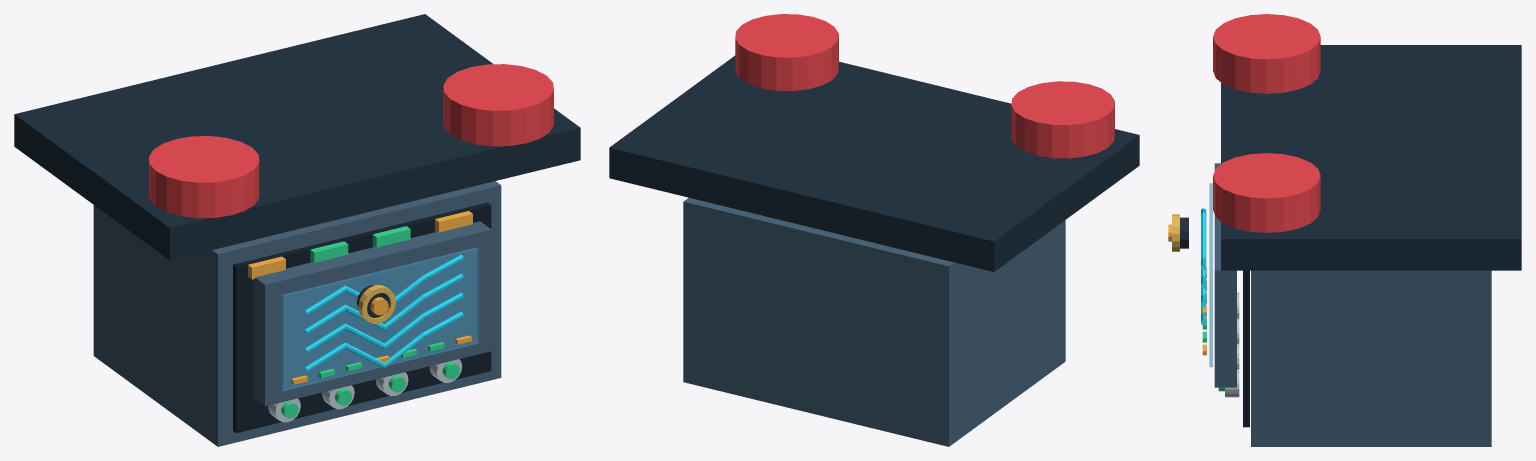
File: 59_L81_GuardedFaultInjectionConsole.fbx
3 renders of one model, left to right at view 1: azimuth 30°, elevation 25°; view 2: azimuth 150°, elevation 25°; view 3: azimuth 270°, elevation 25°, orthographic. The views are drawn at different scales.
Parts seen in each view (by area): view 1: GuardedFaultInjectionConsole; view 2: GuardedFaultInjectionConsole; view 3: GuardedFaultInjectionConsole.
Boxes of the visible parts, x1,y1,x2,y2 form: GuardedFaultInjectionConsole: (14,14,580,446); GuardedFaultInjectionConsole: (609,14,1139,446); GuardedFaultInjectionConsole: (1168,14,1521,446).
Bounding box in the file's own units: 145 × 95.5 × 112.
